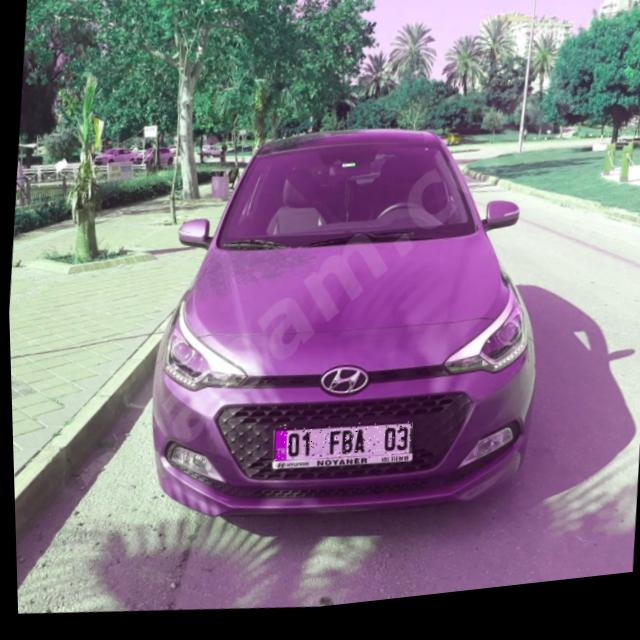license_plate: (269, 419, 410, 479)
